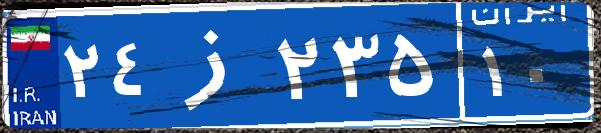0: (525, 38, 570, 115)
1: (475, 38, 525, 113)
2: (273, 28, 330, 110), (57, 26, 110, 107)
3: (330, 28, 385, 110)
4: (110, 28, 158, 105)
5: (385, 28, 445, 110)
ز: (158, 15, 273, 115)
